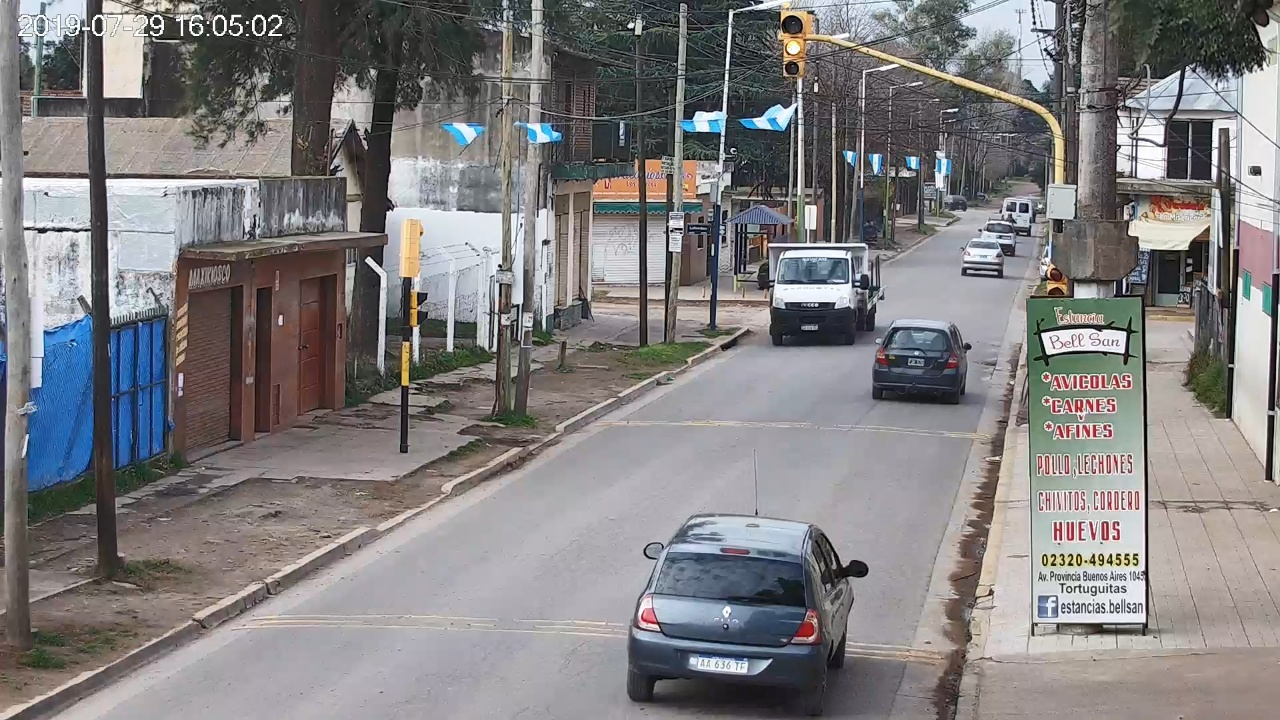car: (626, 512, 869, 716), (875, 316, 975, 403)
front truck: (760, 242, 869, 347)
traffic light: (781, 9, 807, 77)
